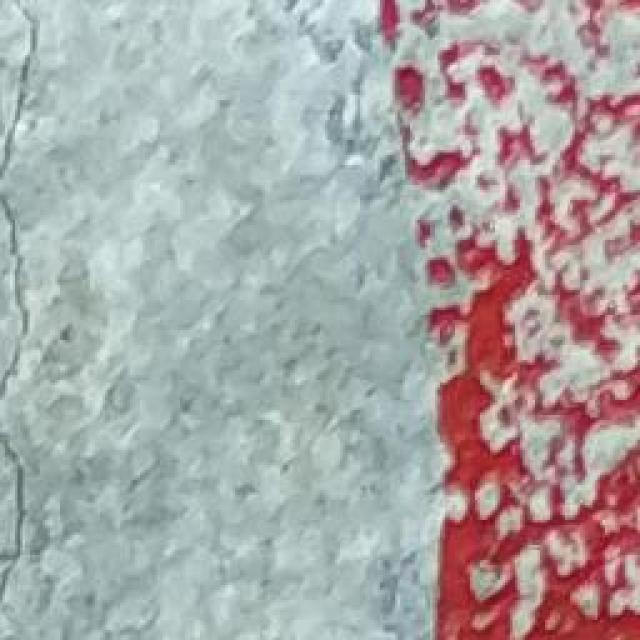Longitudinal: (0, 0, 65, 640)
Rippled: (66, 1, 640, 640)
